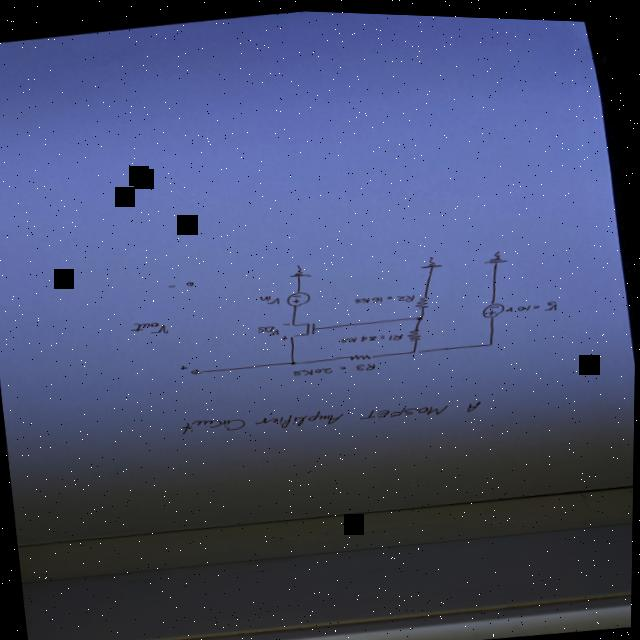ground: (289, 260, 314, 277), (483, 246, 510, 261), (420, 251, 445, 267)
junction: (290, 358, 300, 363), (417, 312, 425, 317), (412, 347, 422, 351), (489, 338, 496, 343)
resistor: (348, 349, 376, 359), (407, 324, 424, 339), (415, 292, 432, 307)
source: (286, 287, 314, 307), (481, 296, 508, 316)
terminal: (190, 366, 207, 374), (185, 278, 198, 286)
text: (180, 382, 486, 445), (293, 357, 377, 378), (354, 288, 418, 306), (341, 327, 405, 344), (505, 294, 560, 313), (130, 317, 171, 337), (256, 322, 281, 336), (259, 291, 282, 305), (178, 363, 191, 370), (282, 319, 292, 325), (167, 282, 179, 287), (281, 333, 290, 339)
transistor: (289, 319, 318, 337)
